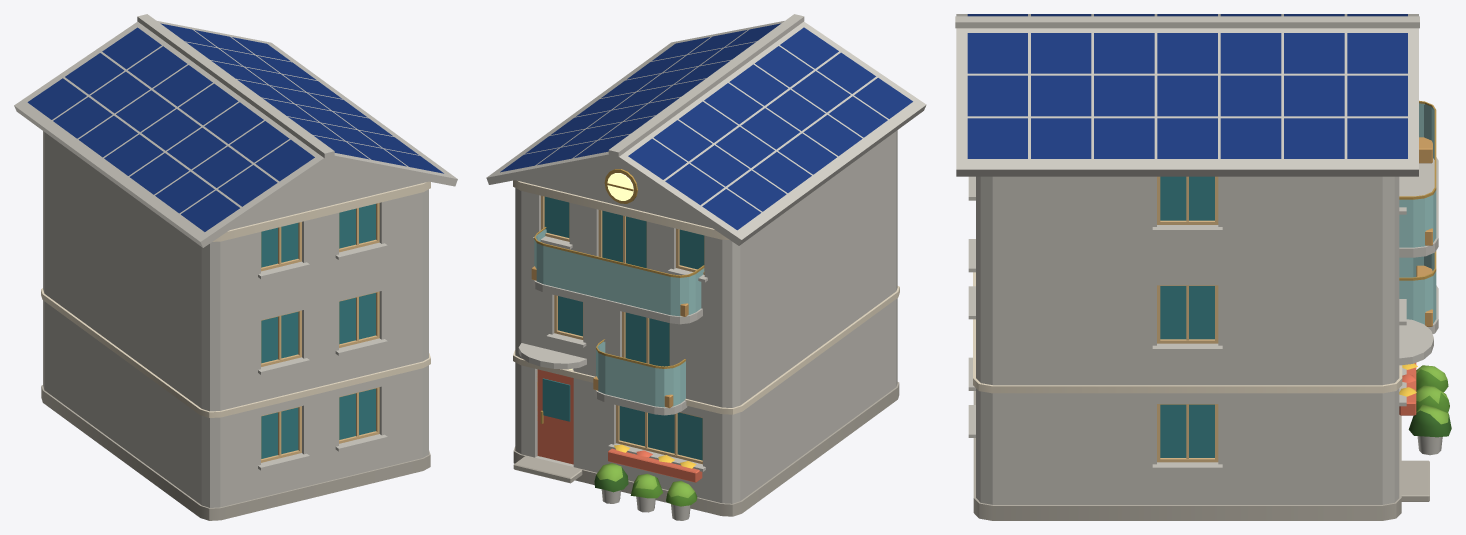
The model's file is house_c.glb.
3 renders of one model, left to right at view 1: azimuth 30°, elevation 25°; view 2: azimuth 150°, elevation 25°; view 3: azimuth 270°, elevation 25°, orthographic. The views are drawn at different scales.
Visible parts, largest first — view 1: house; view 2: house, plants; view 3: house, plants.
Part boxes in pixels (<box>): house: <box>14,14,457,520</box>; house: <box>486,14,926,516</box>; plants: <box>594,444,697,520</box>; house: <box>955,14,1438,520</box>; plants: <box>1399,363,1451,455</box>.
Bounding box in the file's own units: 6.62 × 8.56 × 8.91.
